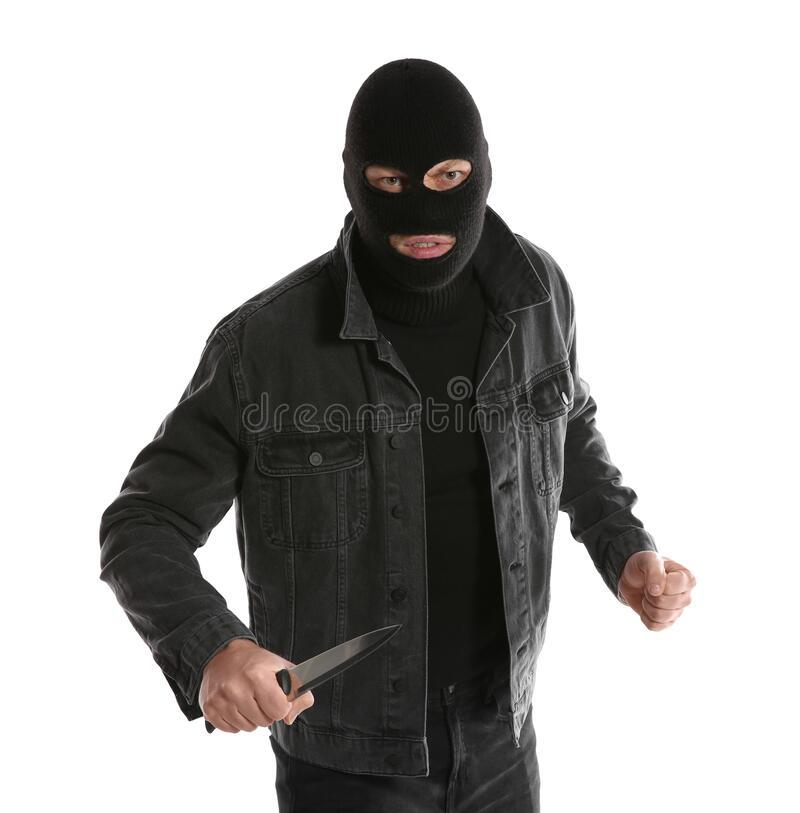criminal: (98, 55, 699, 813)
weapon: (200, 619, 410, 738)
